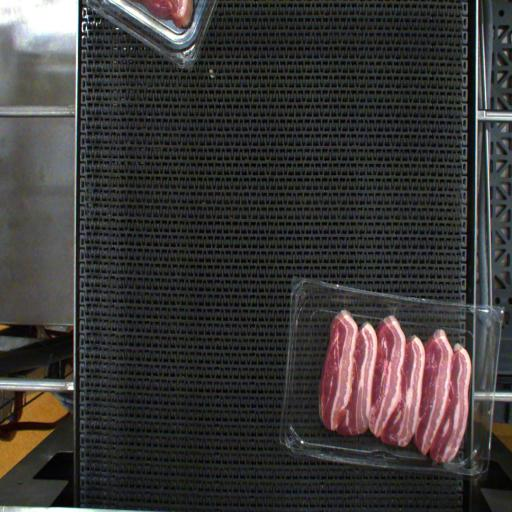packaging-error: (340, 294, 348, 313), (388, 306, 398, 319)
